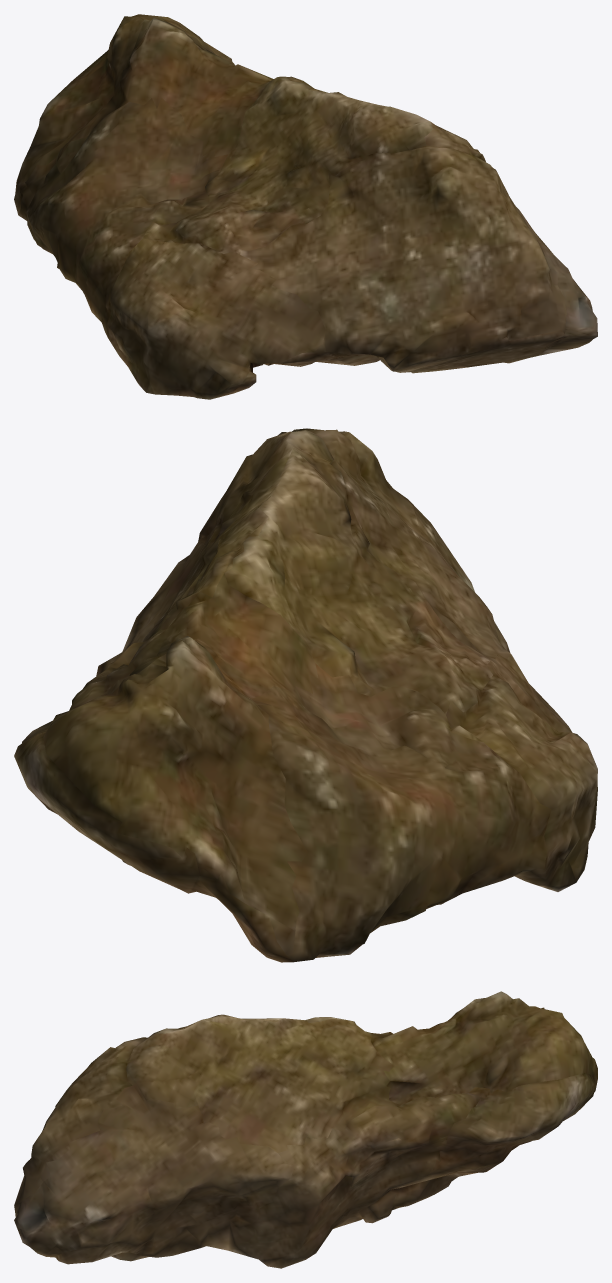
Rendered from rocks-high.glb.
The picture shows the model from 3 angles, top to bottom: view 1: azimuth 30°, elevation 25°; view 2: azimuth 150°, elevation 25°; view 3: azimuth 270°, elevation 25°; orthographic projection. The views are drawn at different scales.
Parts seen in each view (by area): view 1: rock_moss_set_01_rock01; view 2: rock_moss_set_01_rock01; view 3: rock_moss_set_01_rock01.
Part boxes in pixels (<box>): rock_moss_set_01_rock01: <box>14,14,597,399</box>; rock_moss_set_01_rock01: <box>14,428,597,962</box>; rock_moss_set_01_rock01: <box>14,991,597,1268</box>.
Bounding box in the file's own units: 2.24 × 1.47 × 3.36.
1 material, 1 textured.
